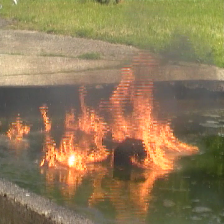fire_h: (34, 66, 198, 202), (6, 114, 30, 142)
